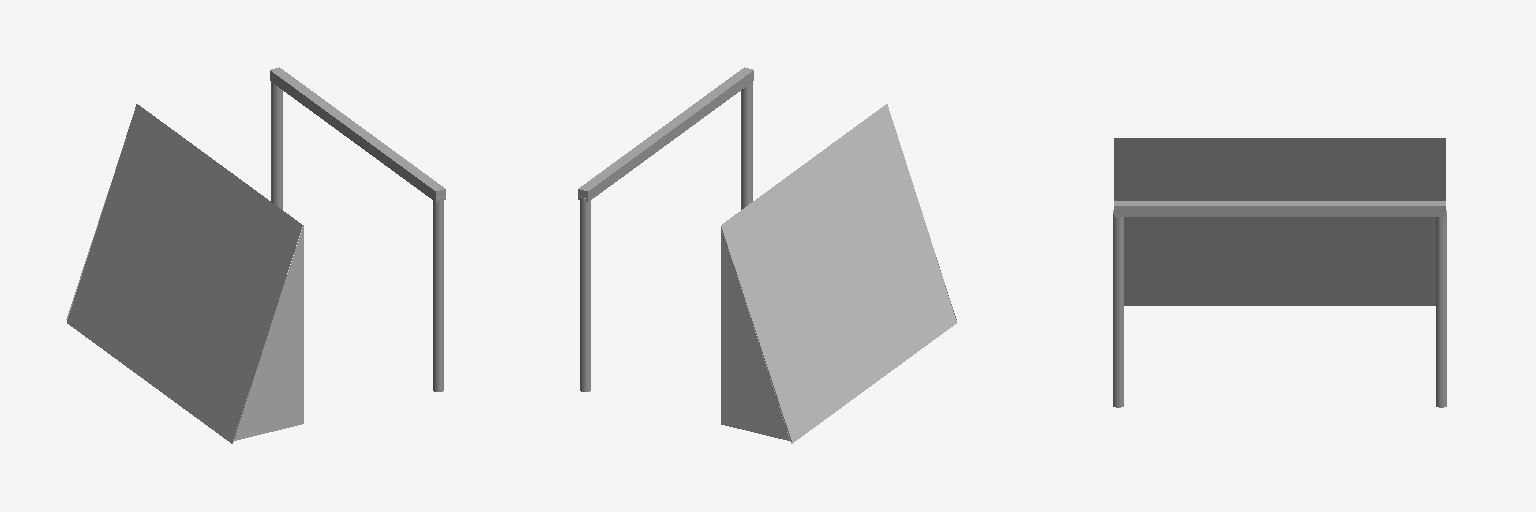
Rendered from net.obj.
3 views of the same model, side by side, from view 1: azimuth 30°, elevation 25°; view 2: azimuth 150°, elevation 25°; view 3: azimuth 270°, elevation 25° (orthographic).
Visible parts, largest first — view 1: Plane.002_Plane.001, Cylinder.001; view 2: Plane.002_Plane.001, Cylinder.001; view 3: Plane.002_Plane.001, Cylinder.001.
Boxes of the visible parts, x1=… form: Plane.002_Plane.001: x1=66, y1=104, x2=303, y2=443; Cylinder.001: x1=270, y1=67, x2=445, y2=391; Plane.002_Plane.001: x1=721, y1=104, x2=956, y2=443; Cylinder.001: x1=578, y1=67, x2=753, y2=391; Plane.002_Plane.001: x1=1114, y1=138, x2=1445, y2=305; Cylinder.001: x1=1113, y1=201, x2=1446, y2=407.
Bounding box in the file's own units: 10.4 × 9.45 × 14.1.